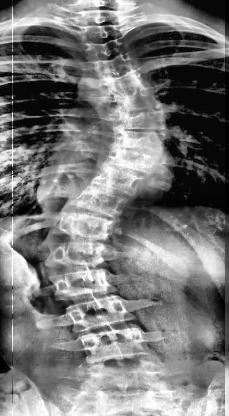Vertebrae: (74, 324, 162, 364), (63, 295, 139, 333), (49, 266, 131, 300), (55, 206, 119, 244), (47, 238, 117, 270), (67, 187, 125, 221), (106, 149, 168, 179), (90, 165, 146, 195), (105, 90, 170, 113), (114, 128, 172, 152), (116, 110, 170, 134), (100, 72, 148, 96), (88, 58, 144, 78), (88, 40, 132, 62), (82, 25, 128, 45), (81, 8, 121, 28)
